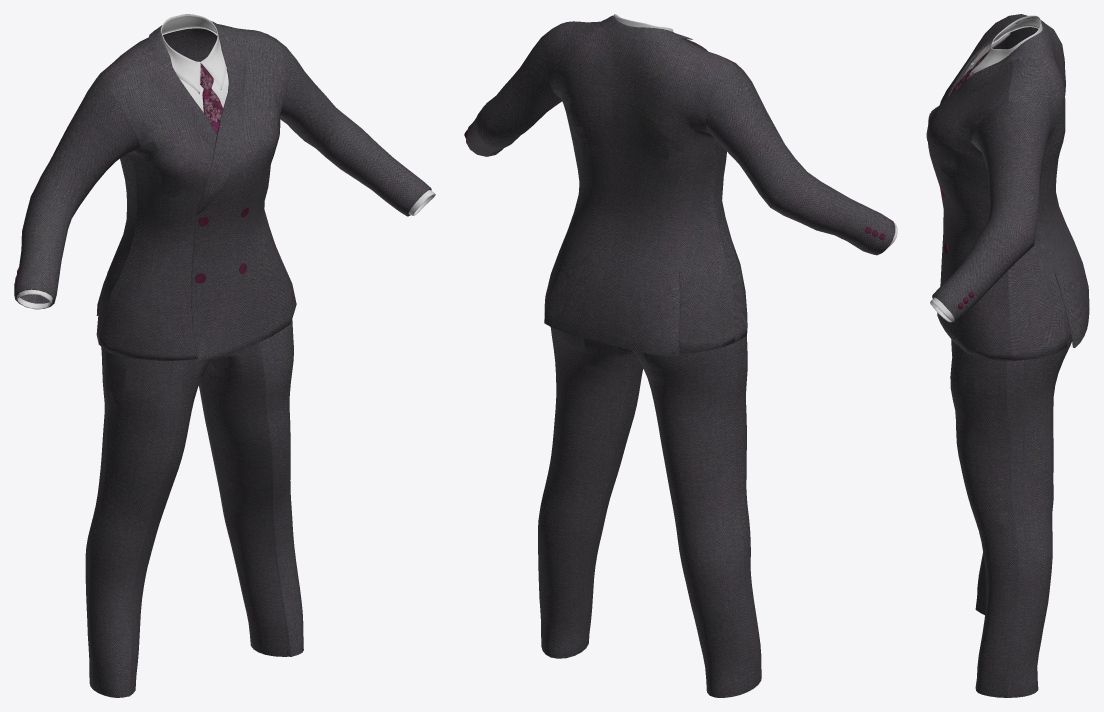
File: toigo-female-double-breasted-suit.glb
3 renders of one model, left to right at view 1: azimuth 30°, elevation 25°; view 2: azimuth 150°, elevation 25°; view 3: azimuth 270°, elevation 25°, orthographic. The views are drawn at different scales.
Parts seen in each view (by area): view 1: female double-breasted suit; view 2: female double-breasted suit; view 3: female double-breasted suit.
Part boxes in pixels (x1=…): female double-breasted suit: x1=14, y1=14, x2=435, y2=697; female double-breasted suit: x1=464, y1=14, x2=897, y2=697; female double-breasted suit: x1=926, y1=14, x2=1089, y2=697.
Bounding box in the file's own units: 91 × 133 × 31.31.
1 material, 1 textured.
